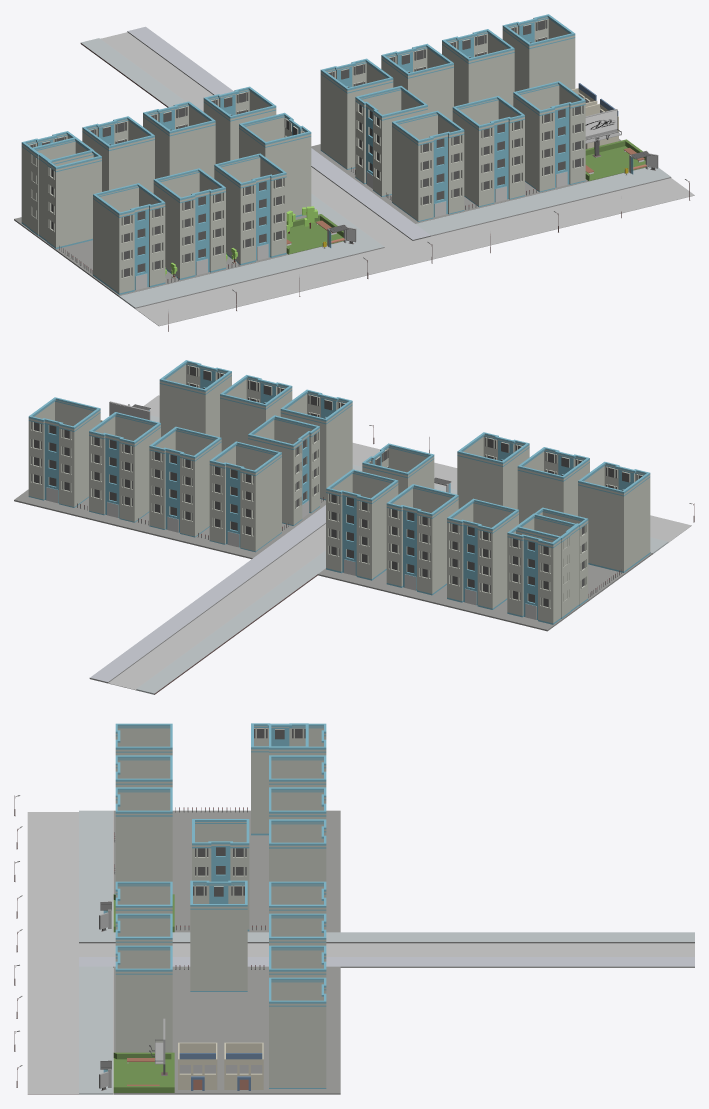
File: Edificio 3.fbx
3 views of the same model, one above another, from view 1: azimuth 30°, elevation 25°; view 2: azimuth 150°, elevation 25°; view 3: azimuth 270°, elevation 25° (orthographic). The views are drawn at different scales.
Visible parts, largest first — view 1: Carretera2 (×2), Carretera1, pasted__Edificio_3, pasted__Edificio_14, pasted__Edificio_12, pasted__Edificio_13, pasted__Edificio_5, pasted__Edificio_4, pasted__Edificio_20, pasted__Edificio_15, pasted__Edificio_19, pasted__Edificio_18 (+12 smaller); view 2: Carretera1, pasted__Edificio_15, pasted__Edificio_3, pasted__Edificio_10, pasted__Edificio_9, pasted__Edificio_8, pasted__Edificio_16, pasted__Edificio_18, pasted__Edificio_17, pasted__Edificio_7, Piso2 (×2), pasted__Edificio_19 (+8 smaller); view 3: Carretera2 (×2), Piso2 (×2), Carretera1, pasted__Edificio_18, pasted__Edificio_19, pasted__Edificio_12, pasted__Edificio_5, pasted__Edificio_21, pasted__Edificio_10, pasted__Edificio_20, Piso4, Tienda_3 (+11 smaller).
Part boxes in pixels (x1,y1,x2,y2): Carretera2 (×2): (119,167,694,326); Carretera1: (80,26,430,252); pasted__Edificio_3: (93,183,165,294); pasted__Edificio_14: (392,110,464,221); pasted__Edificio_12: (513,81,585,192); pasted__Edificio_13: (452,96,524,207); pasted__Edificio_5: (214,153,286,265); pasted__Edificio_4: (153,168,225,279); pasted__Edificio_20: (29,137,101,248); pasted__Edificio_15: (320,58,393,169); pasted__Edificio_19: (355,86,427,196); pasted__Edificio_18: (502,14,575,91); Carretera1: (89,484,437,694); pasted__Edificio_15: (209,441,281,552); pasted__Edificio_3: (578,461,650,572); pasted__Edificio_10: (326,469,398,580); pasted__Edificio_9: (386,484,458,595); pasted__Edificio_8: (447,498,518,609); pasted__Edificio_16: (149,426,221,537); pasted__Edificio_18: (28,397,100,507); pasted__Edificio_17: (89,412,160,522); pasted__Edificio_7: (507,513,578,624); Piso2 (×2): (14,489,652,631); pasted__Edificio_19: (248,415,319,525); Carretera2 (×2): (27,810,112,1094); Piso2 (×2): (113,810,340,1094); Carretera1: (79,932,694,967); pasted__Edificio_18: (269,977,326,1088); pasted__Edificio_19: (190,880,247,991); pasted__Edificio_12: (115,945,172,1052); pasted__Edificio_5: (115,787,172,881); pasted__Edificio_21: (192,819,249,931); pasted__Edificio_10: (269,819,326,881); pasted__Edificio_20: (251,723,308,835); Piso4: (113,1052,174,1092); Tienda_3: (224,1042,263,1090).
Bounding box in the file's own units: 157 × 23.61 × 160.
